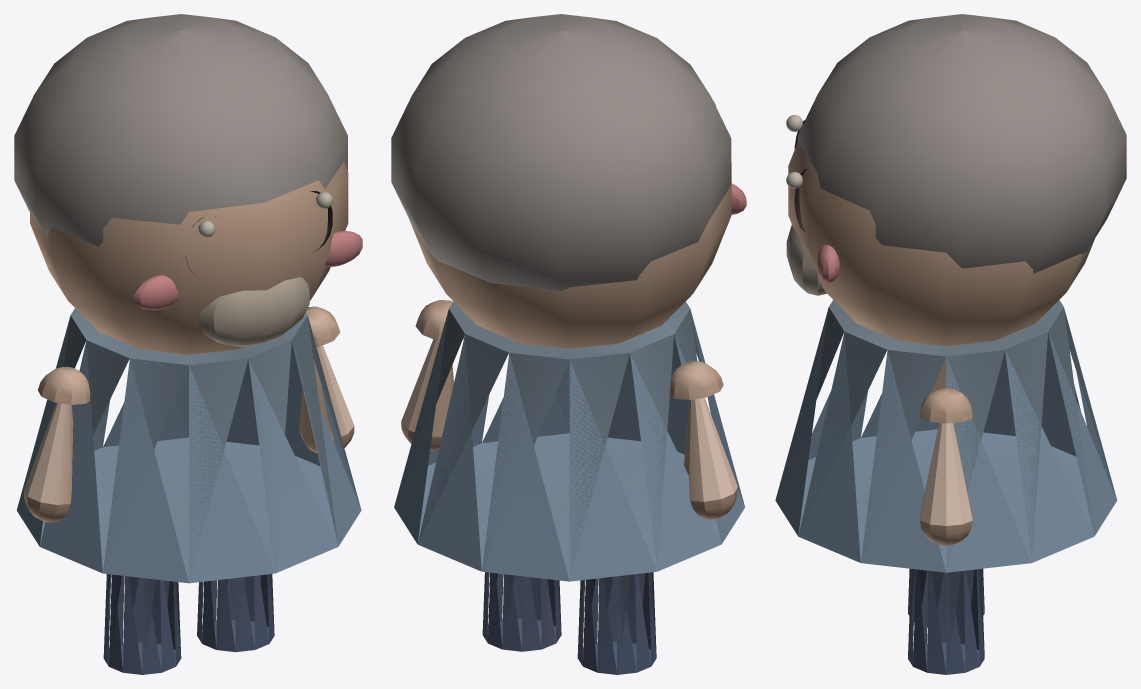
3 renders of one model, left to right at view 1: azimuth 30°, elevation 25°; view 2: azimuth 150°, elevation 25°; view 3: azimuth 270°, elevation 25°, orthographic. The views are drawn at different scales.
Visible parts, largest first — view 1: pet_p2a64510e; view 2: pet_p2a64510e; view 3: pet_p2a64510e.
Part boxes in pixels (box(x1,y1,x2,y2)): pet_p2a64510e: box(14, 14, 362, 674); pet_p2a64510e: box(391, 14, 746, 674); pet_p2a64510e: box(775, 14, 1126, 674).
Size of the model in its own units: 0.3464 by 0.625 by 0.3287.
